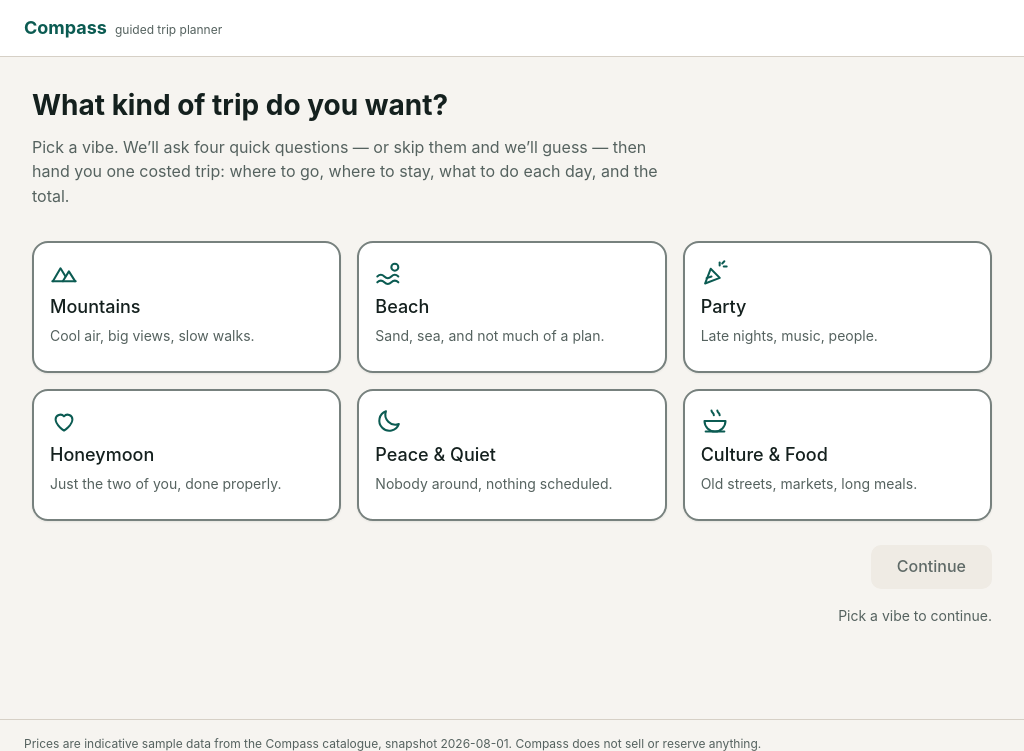
Scenario: R16 — the honesty audit › offers no way to transact from the plan screen, whatever the plan
Click the button "Party Late nights, music, people." at {"x": 724, "y": 306}, box [683,241,992,373]
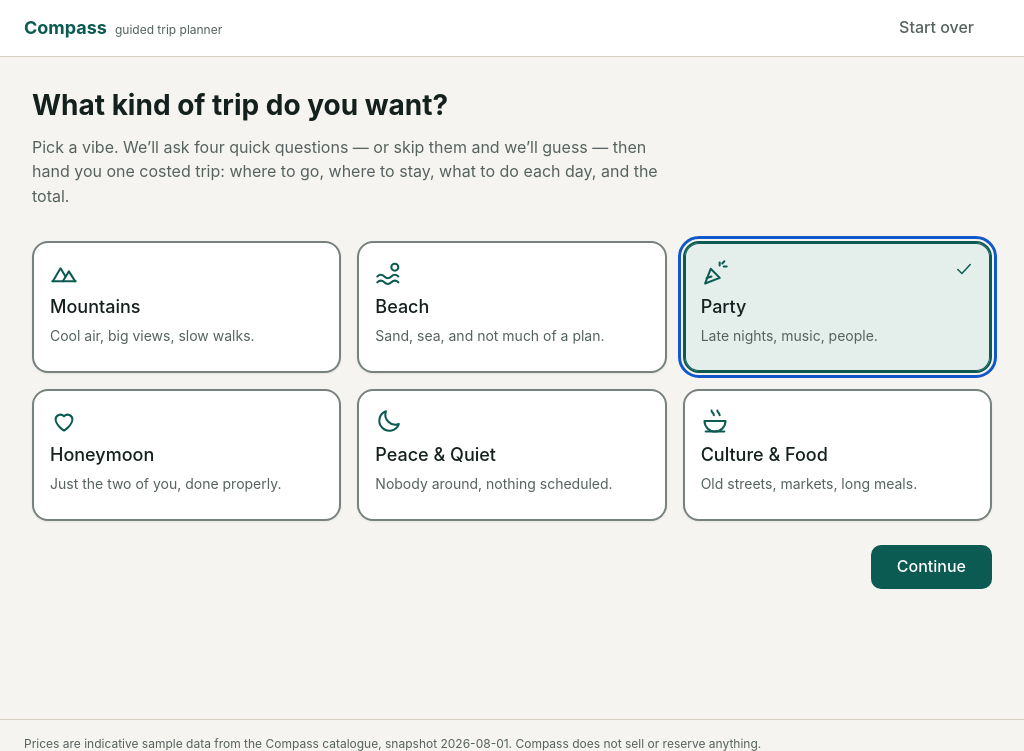
Click the button "Continue" at {"x": 931, "y": 567}, box [871,545,992,589]
(page scrolled)
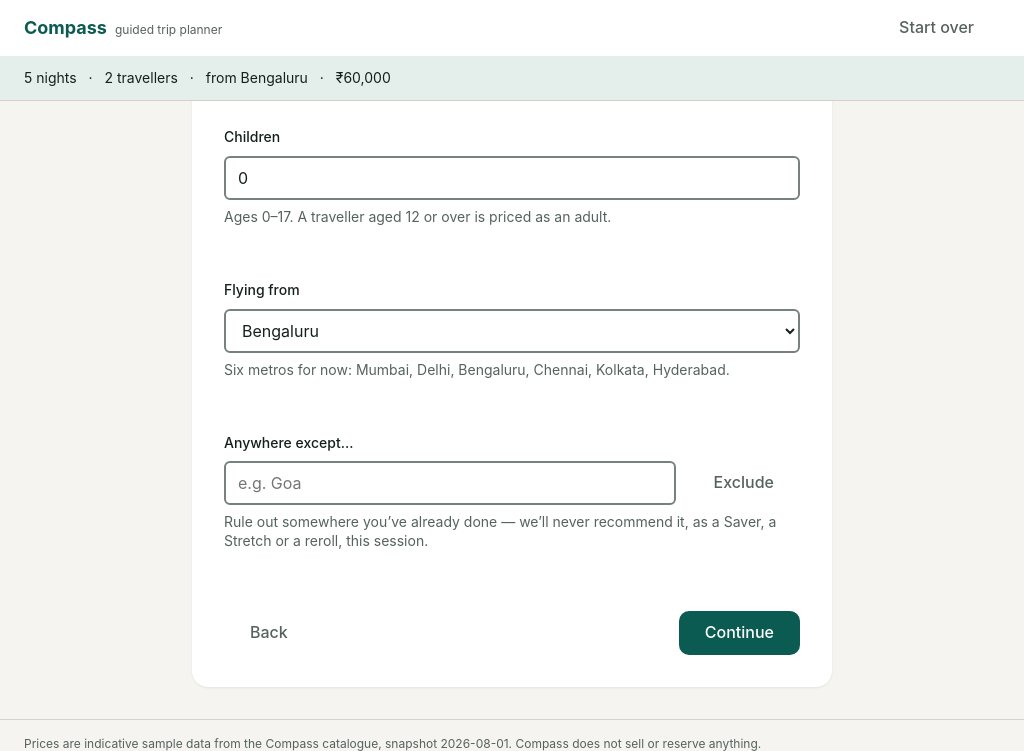
Click the button "Continue" at {"x": 739, "y": 633}, box [679,611,800,655]
(page scrolled)
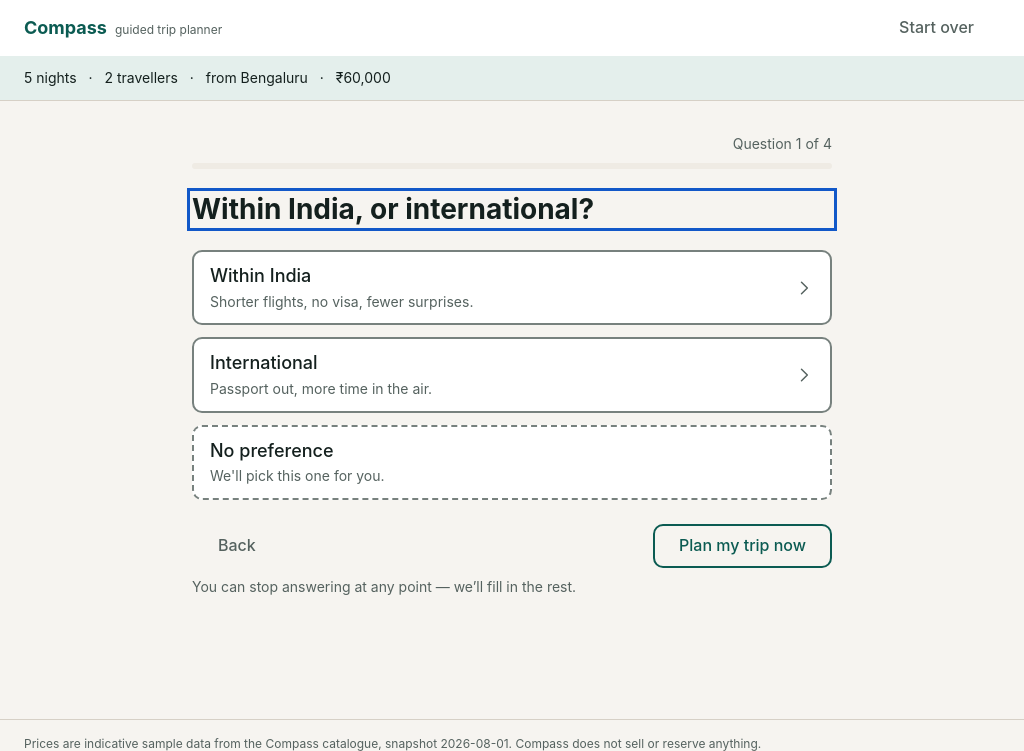
Expected: the text "Question 1 of 4" is shown, [733,135,832,152]
Click the button "Plan my trip now" at {"x": 743, "y": 546}, box [653,524,832,568]
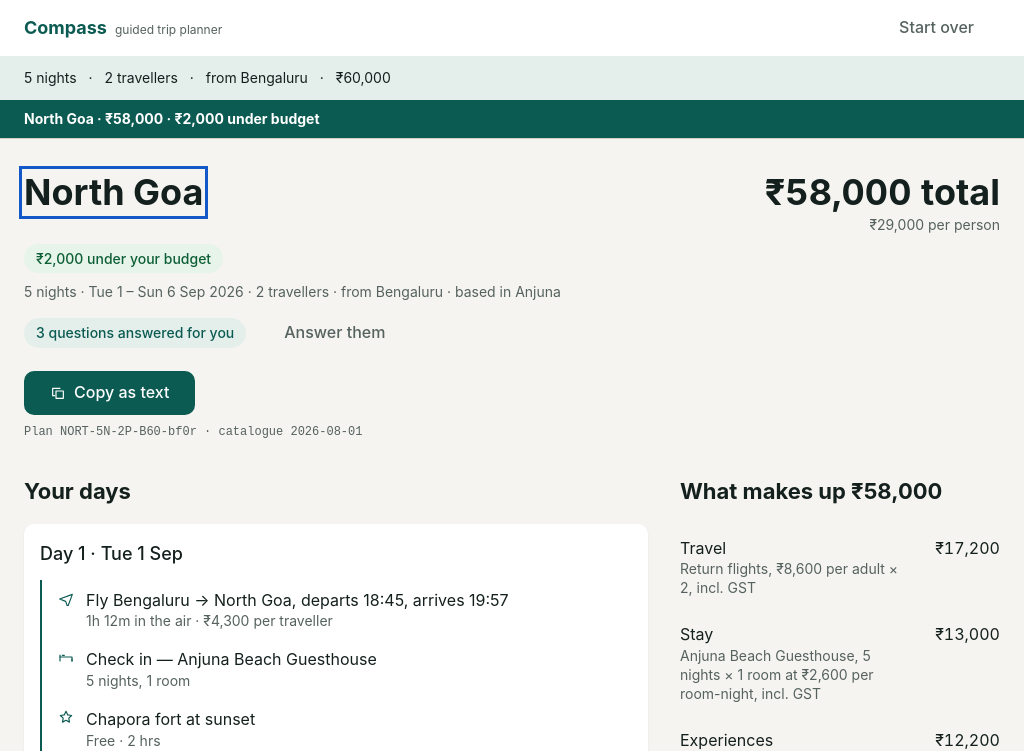
Expected: the text "· catalogue 2026-08-01" is shown, [24,423,362,442]
